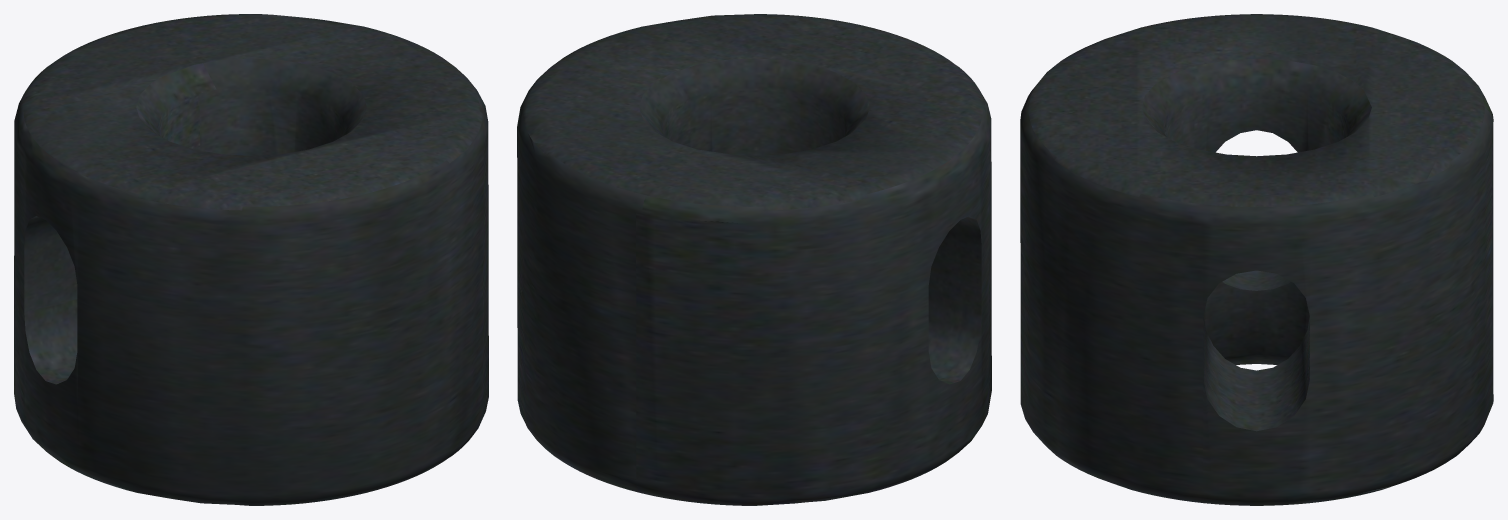
The model's file is Buttstock_Release_Lever_Nut.dae.
3 views of the same model, side by side, from view 1: azimuth 30°, elevation 25°; view 2: azimuth 150°, elevation 25°; view 3: azimuth 270°, elevation 25° (orthographic).
Parts seen in each view (by area): view 1: Buttstock_Release_Lever_Nut; view 2: Buttstock_Release_Lever_Nut; view 3: Buttstock_Release_Lever_Nut.
Boxes of the visible parts, <box> form: Buttstock_Release_Lever_Nut: <box>14,14,488,505</box>; Buttstock_Release_Lever_Nut: <box>517,14,991,505</box>; Buttstock_Release_Lever_Nut: <box>1020,14,1493,505</box>.
Bounding box in the file's own units: 0.0111 × 0.011 × 0.00785.
1 material, 1 textured.
